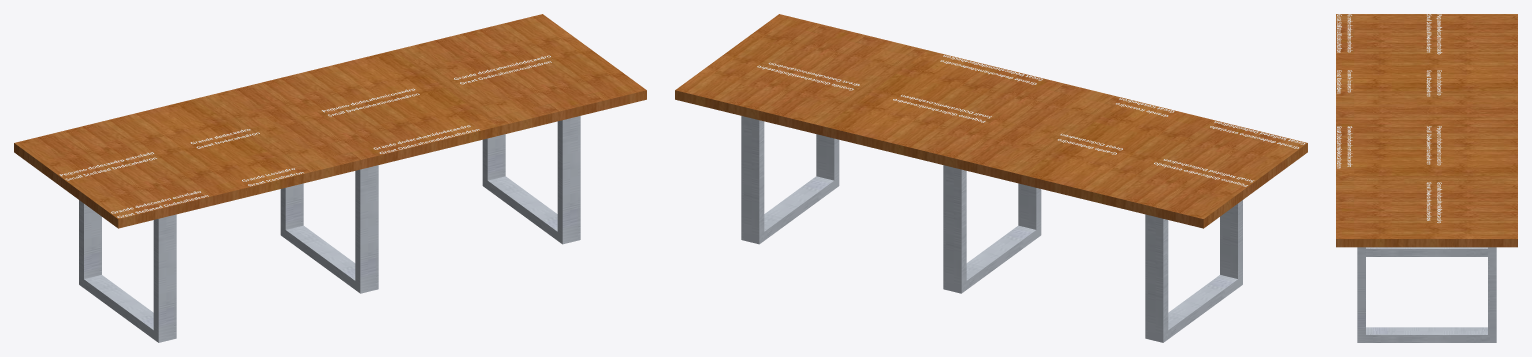
File: mesa_nonConvex2.glb
The picture shows the model from 3 angles, left to right: view 1: azimuth 30°, elevation 25°; view 2: azimuth 150°, elevation 25°; view 3: azimuth 270°, elevation 25°; orthographic projection. The views are drawn at different scales.
Visible parts, largest first — view 1: object 1, Composant#1 (×3); view 2: object 1, Composant#1 (×3); view 3: object 1, Composant#1 (×2), Grande dodecahem, Grande dodecahem#1, Pequeno dodecaed, Grande dodecaedr, Pequeno dodecahe, Grande dodecaedr#1, Grande icosaedro.
Part boxes in pixels (x1,y1,x2,y2): object 1: (14, 14, 646, 228); Composant#1 (×3): (79, 116, 580, 342); object 1: (675, 14, 1307, 228); Composant#1 (×3): (741, 116, 1242, 342); object 1: (1336, 14, 1517, 247); Composant#1 (×2): (1357, 247, 1496, 342); Grande dodecahem: (1337, 126, 1352, 168); Grande dodecahem#1: (1426, 182, 1441, 222); Pequeno dodecaed: (1426, 14, 1442, 54); Grande dodecaedr: (1337, 14, 1352, 52); Pequeno dodecahe: (1426, 126, 1441, 165); Grande dodecaedr#1: (1426, 70, 1441, 96); Grande icosaedro: (1337, 70, 1352, 93).
Bounding box in the file's own units: 2.93 × 0.771 × 1.
Materials: 3 (2 with a texture image).
